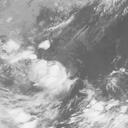cyclone: (32, 56, 71, 94)
